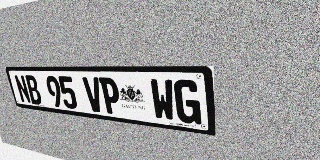5: (58, 76, 79, 110)
9: (44, 76, 65, 108)
B: (24, 75, 43, 105)
G: (173, 79, 201, 125)
N: (14, 75, 32, 104)
P: (99, 77, 122, 115)
V: (82, 77, 105, 113)
W: (149, 79, 176, 122)
